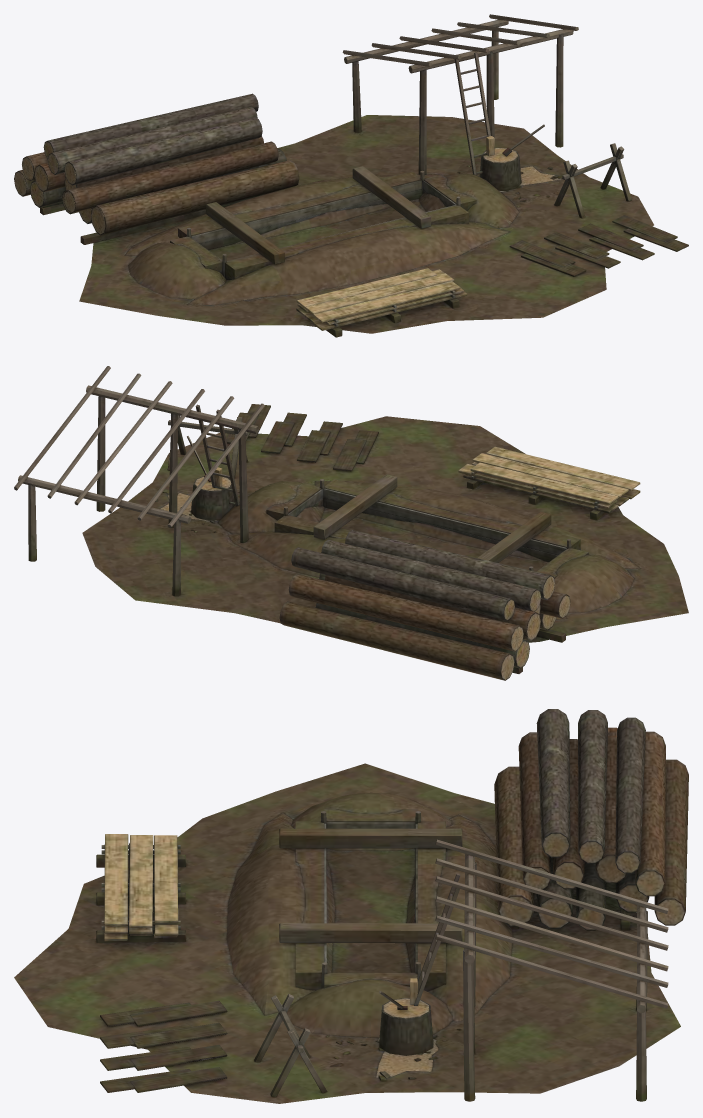
The model's file is lumber_camp_build2.glb.
3 renders of one model, top to bottom at view 1: azimuth 30°, elevation 25°; view 2: azimuth 150°, elevation 25°; view 3: azimuth 270°, elevation 25°, orthographic. The views are drawn at different scales.
Parts seen in each view (by area): view 1: lumber_camp_build2_LOD0; view 2: lumber_camp_build2_LOD0; view 3: lumber_camp_build2_LOD0.
Part boxes in pixels (left/top/right/bottom): lumber_camp_build2_LOD0: left=14, top=14, right=688, bottom=337; lumber_camp_build2_LOD0: left=14, top=366, right=688, bottom=680; lumber_camp_build2_LOD0: left=14, top=709, right=688, bottom=1103.
Size of what is drawn, in the model's own units: 10.9 by 2.48 by 9.04.
1 material, 1 textured.
